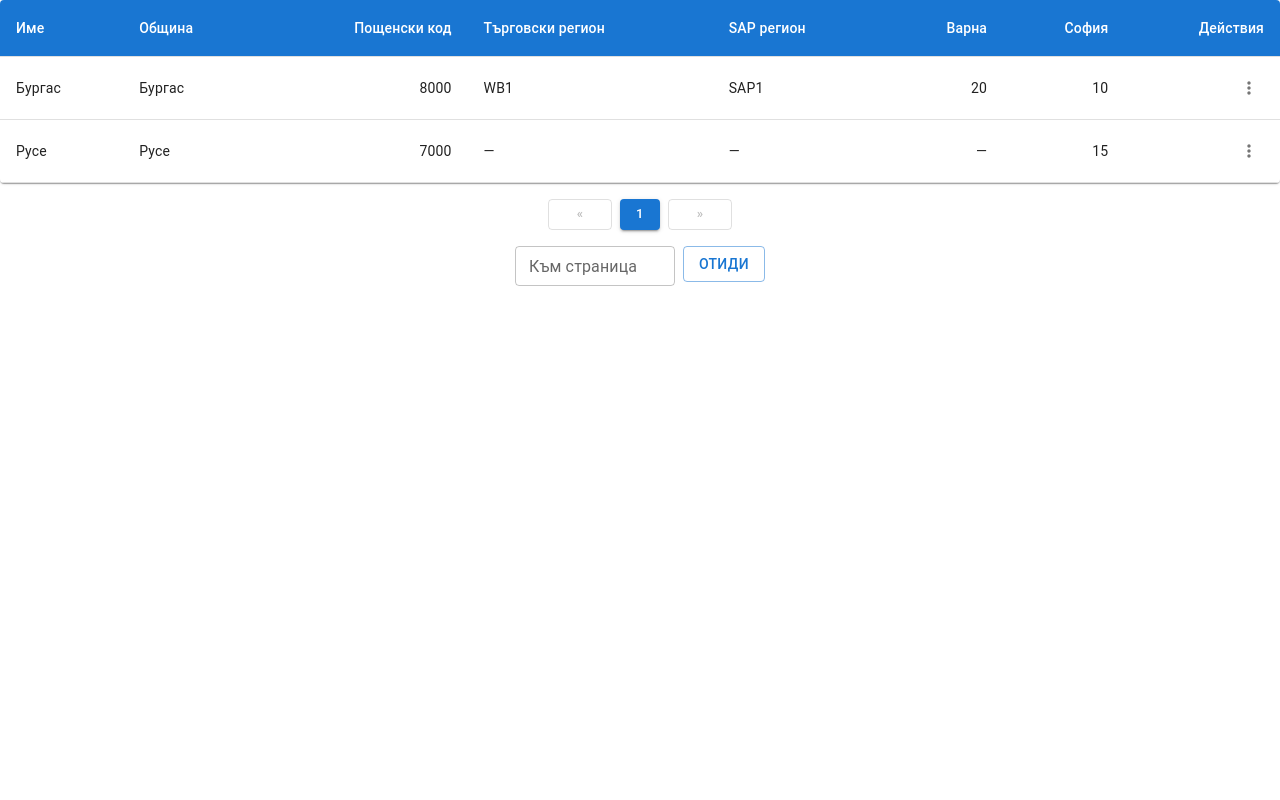
it: LocationsTable › shows an error when deletion fails
This screenshot has width=1280, height=800.
Click the button named "Действия за Бургас" at (1249, 88), box 1234,73 -> 1264,103
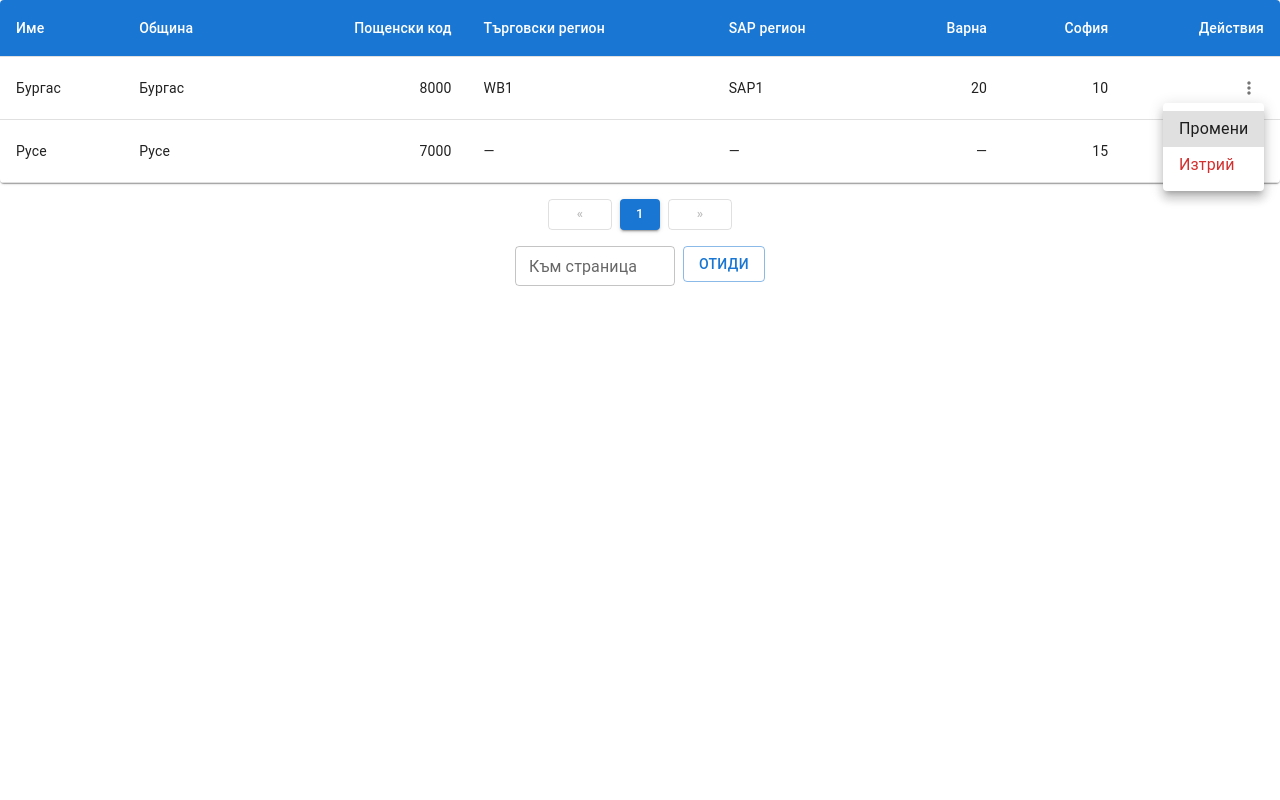
Click the menu item with aria-label "Изтрий Бургас" at (1207, 164), box 1179,155 -> 1235,174
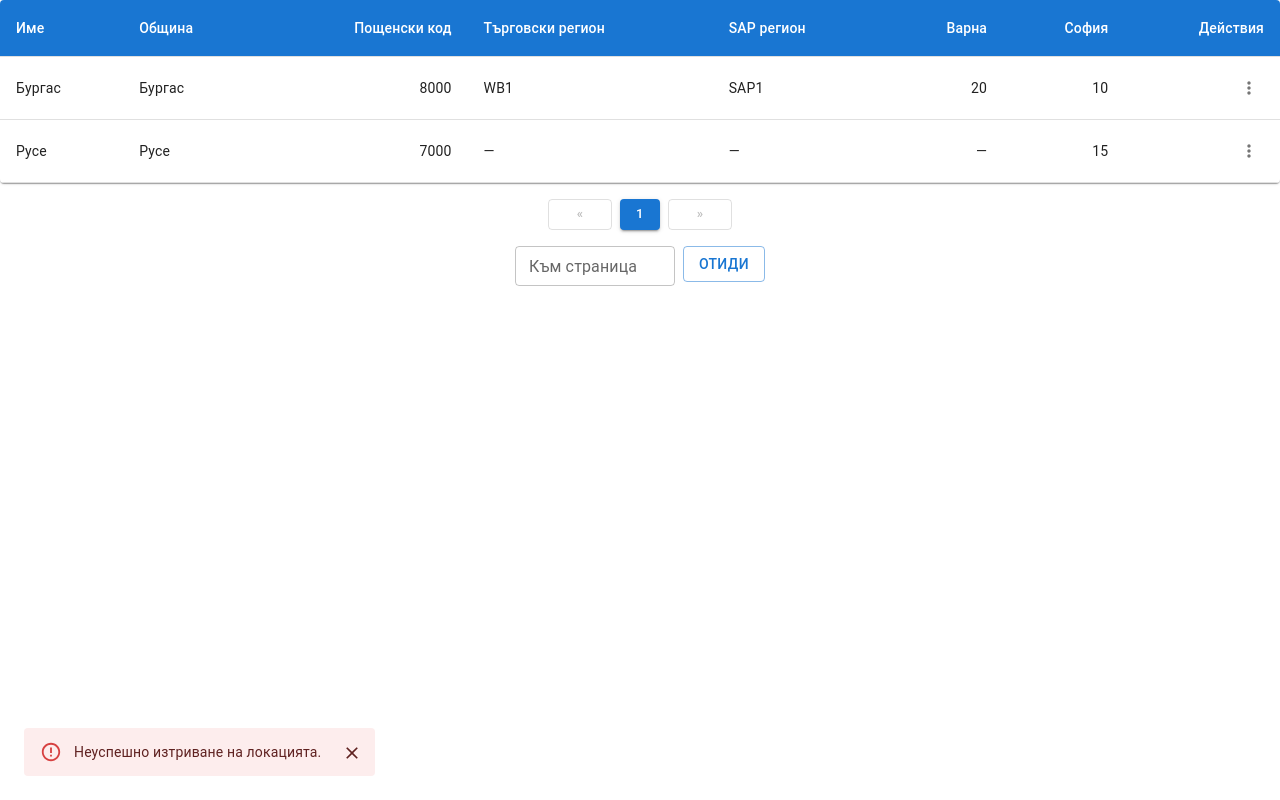
Check: the text "Неуспешно изтриване на локацията." is shown, box 74,744 -> 321,760
